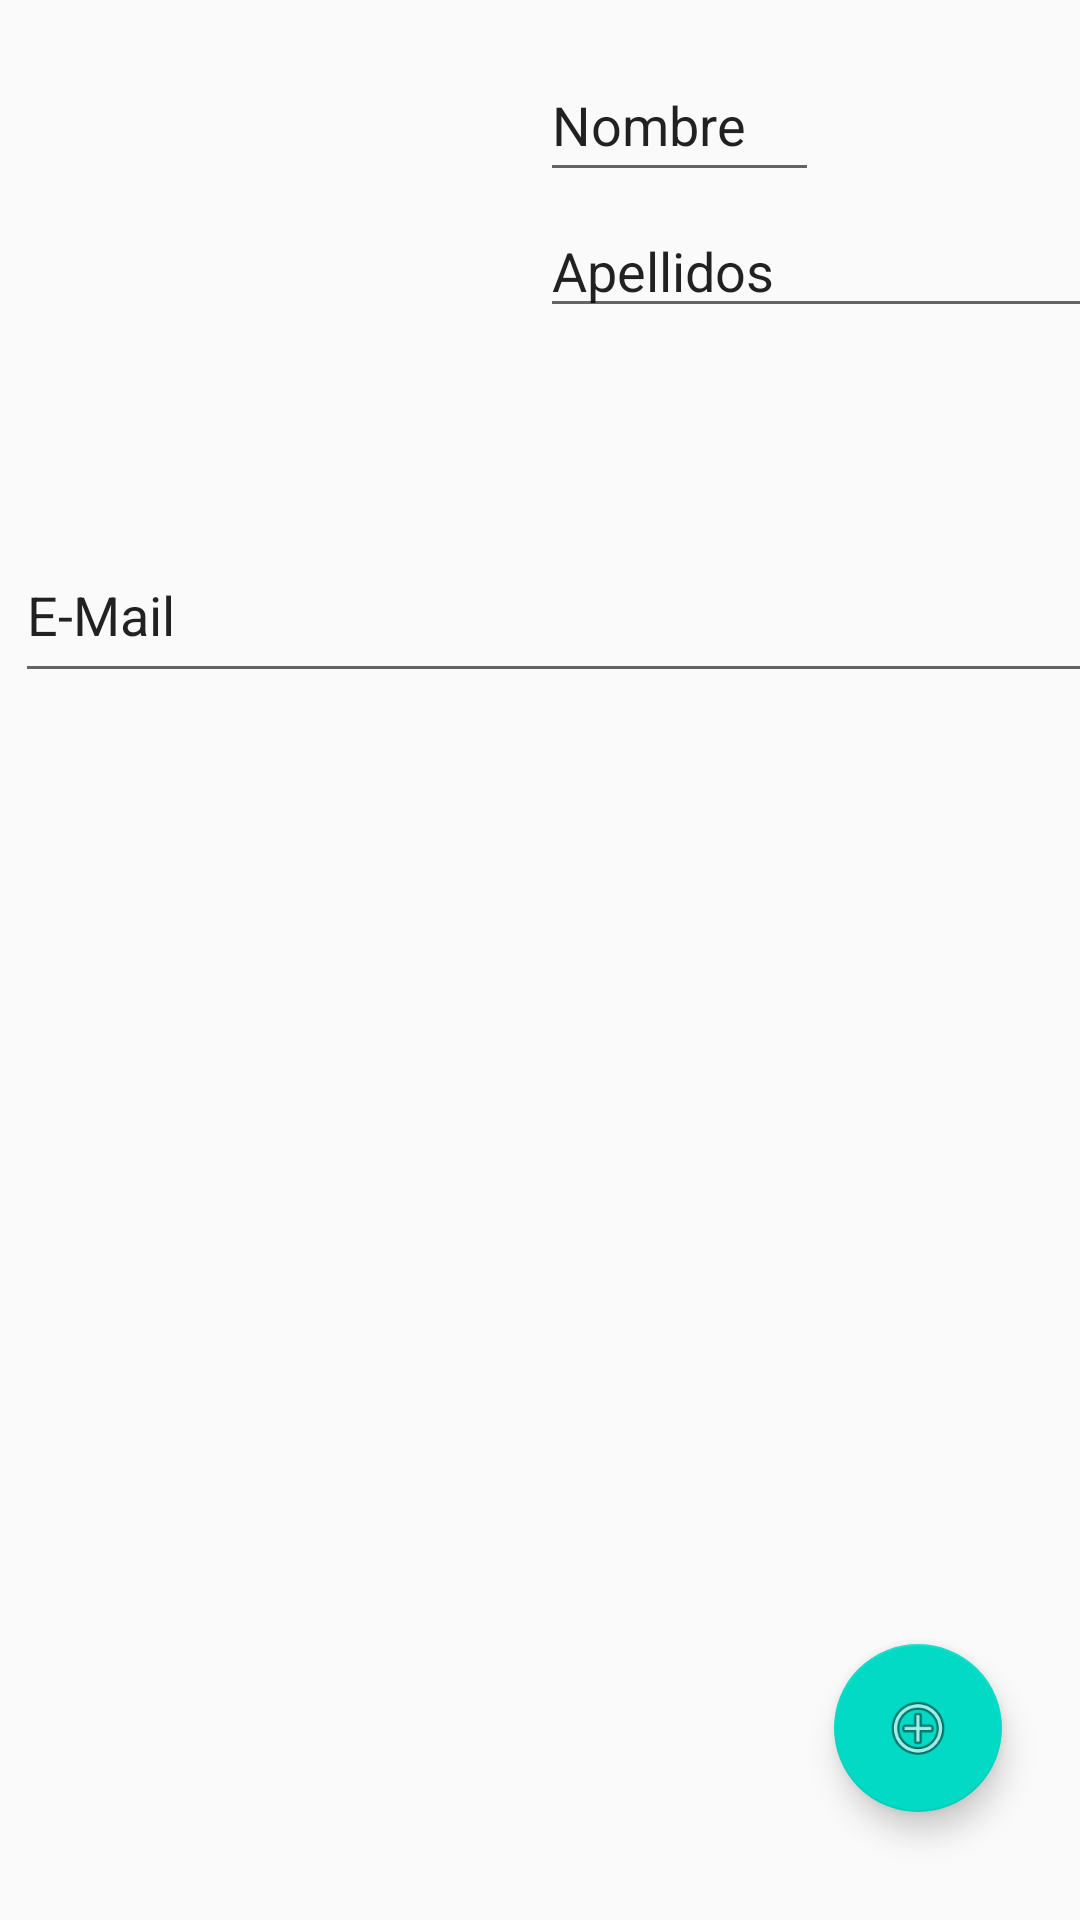

Point at icon controls on the screen. Image size 1080 × 1920, points as [x,y].
add: [918,1728]
